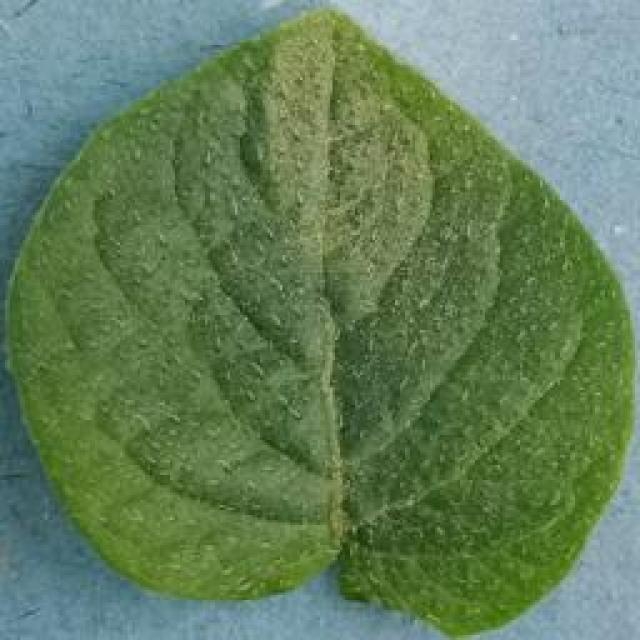Potato_Healthy: (6, 6, 626, 630)
